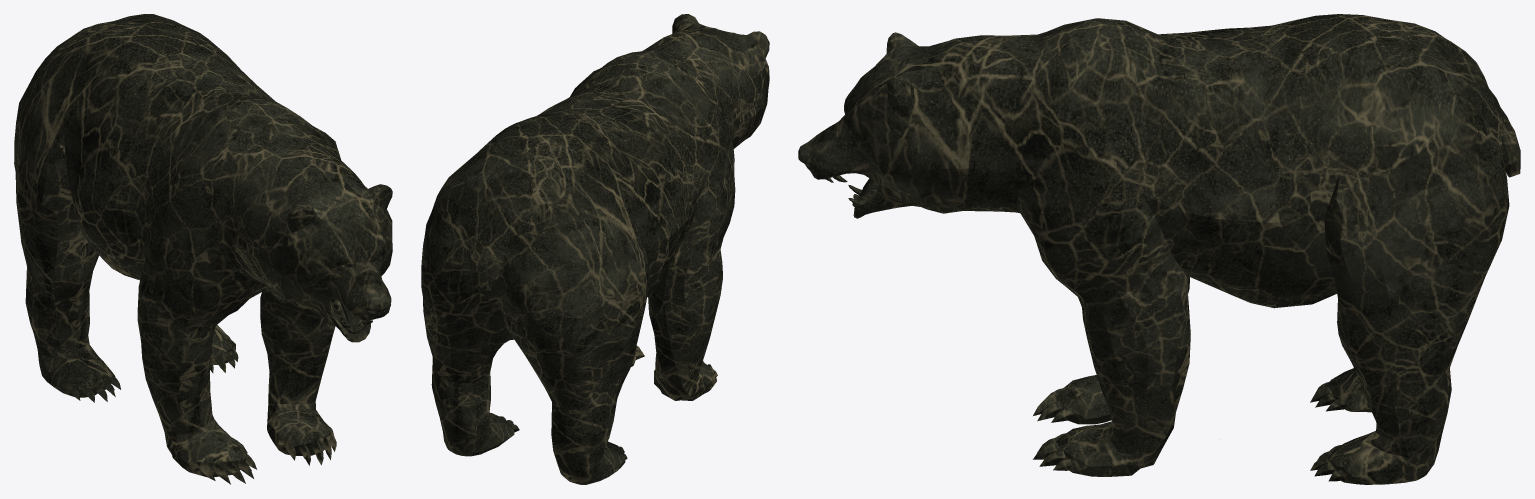
The model's file is sculpture-bear.gltf.
3 views of the same model, side by side, from view 1: azimuth 30°, elevation 25°; view 2: azimuth 150°, elevation 25°; view 3: azimuth 270°, elevation 25° (orthographic). The views are drawn at different scales.
Parts seen in each view (by area): view 1: sculpture_bear; view 2: sculpture_bear; view 3: sculpture_bear.
Part boxes in pixels (x1=…): sculpture_bear: x1=14, y1=14, x2=392, y2=484; sculpture_bear: x1=421, y1=14, x2=769, y2=484; sculpture_bear: x1=798, y1=14, x2=1520, y2=484.
Size of the model in its own units: 1.15 by 1.7 by 2.65.
1 material, 1 textured.
